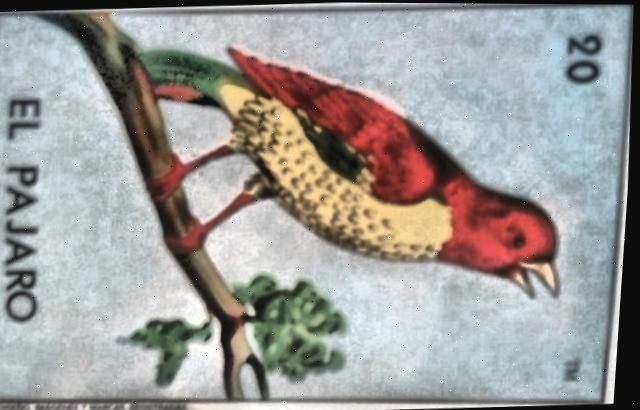El Pajaro: (0, 3, 630, 401)
